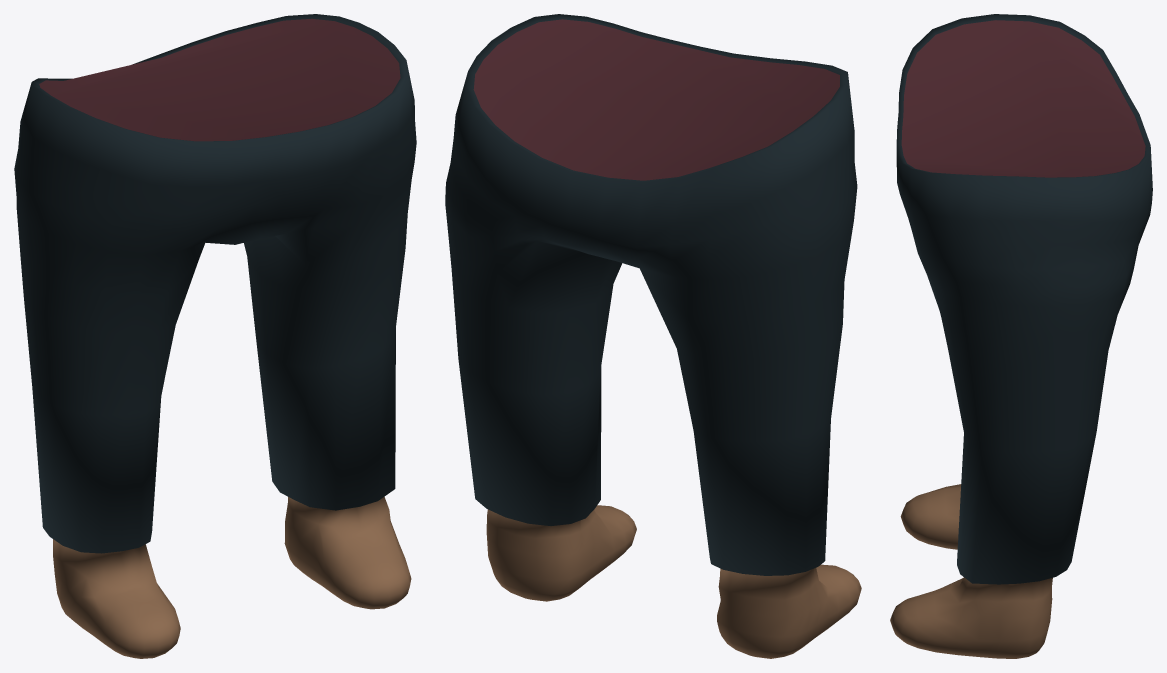
File: manananggal2.glb
The picture shows the model from 3 angles, left to right: view 1: azimuth 30°, elevation 25°; view 2: azimuth 150°, elevation 25°; view 3: azimuth 270°, elevation 25°; orthographic projection. The views are drawn at different scales.
Visible parts, largest first — view 1: botbody; view 2: botbody; view 3: botbody.
Boxes of the visible parts, left/top/right/bottom form: botbody: left=14, top=14, right=416, bottom=658; botbody: left=445, top=14, right=861, bottom=658; botbody: left=890, top=14, right=1152, bottom=658.
Size of the model in its own units: 1.03 by 1.45 by 0.6779.
